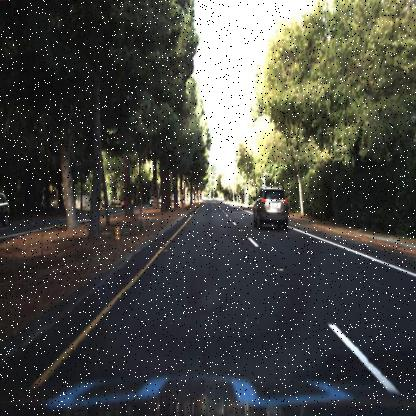car: (252, 186, 288, 231), (0, 190, 11, 224), (147, 192, 155, 211)
